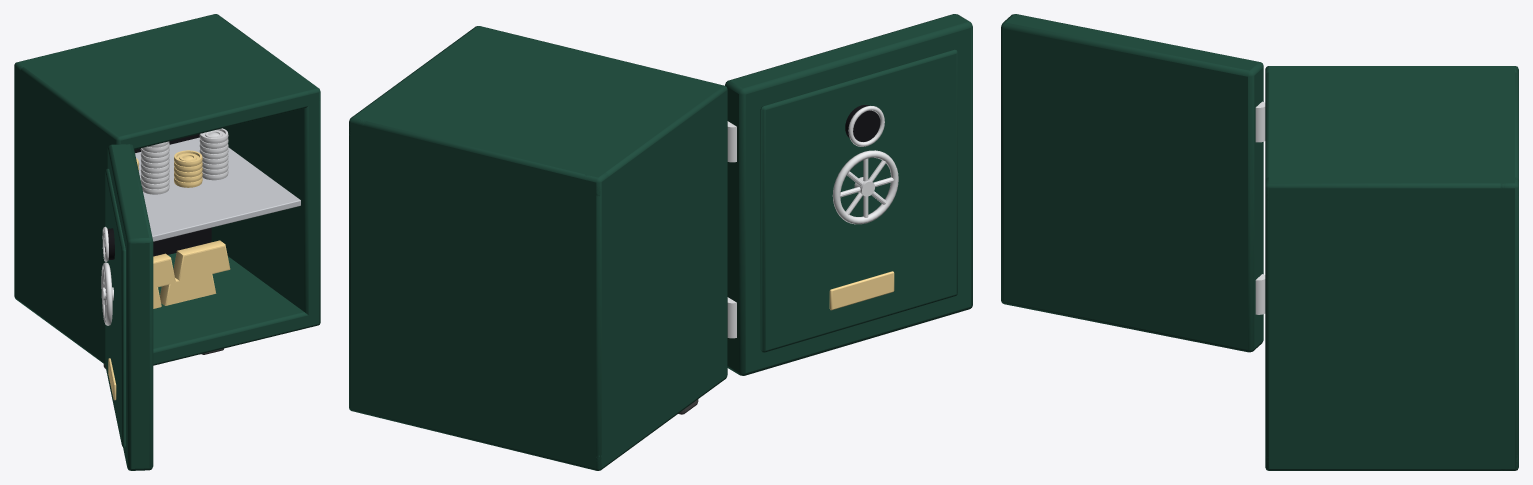
Rendered from safe.glb.
3 renders of one model, left to right at view 1: azimuth 30°, elevation 25°; view 2: azimuth 150°, elevation 25°; view 3: azimuth 270°, elevation 25°, orthographic. The views are drawn at different scales.
Parts seen in each view (by area): view 1: top, left, right, bottom, door, shelf, doorpanel, back, bar.003, bar.001, inner, bar.002 (+3 smaller); view 2: back, doorpanel, left, top, door, right, bottom, wheel, plate, dial; view 3: door, right, top, back, left.
Boxes of the visible parts, x1,y1,x2,y2 form: top: [14, 14, 320, 149]; left: [14, 60, 130, 363]; right: [208, 14, 320, 327]; bottom: [15, 253, 319, 365]; door: [107, 144, 153, 470]; shelf: [135, 137, 300, 241]; doorpanel: [105, 168, 125, 447]; back: [14, 14, 223, 303]; bar.003: [173, 240, 230, 280]; bar.001: [160, 273, 216, 305]; inner: [134, 134, 211, 256]; bar.002: [153, 253, 175, 287]; back: [349, 112, 608, 470]; doorpanel: [760, 49, 957, 352]; left: [583, 82, 727, 470]; top: [349, 26, 726, 195]; door: [725, 14, 972, 375]; right: [351, 26, 491, 408]; bottom: [352, 373, 726, 468]; wheel: [832, 150, 898, 224]; plate: [829, 271, 894, 310]; dial: [845, 105, 880, 141]; door: [1001, 14, 1263, 352]; right: [1265, 177, 1518, 470]; top: [1265, 72, 1518, 201]; back: [1500, 66, 1518, 470]; left: [1265, 66, 1516, 74].
Bounding box in the file's own units: 1.31 × 1.06 × 1.63.
